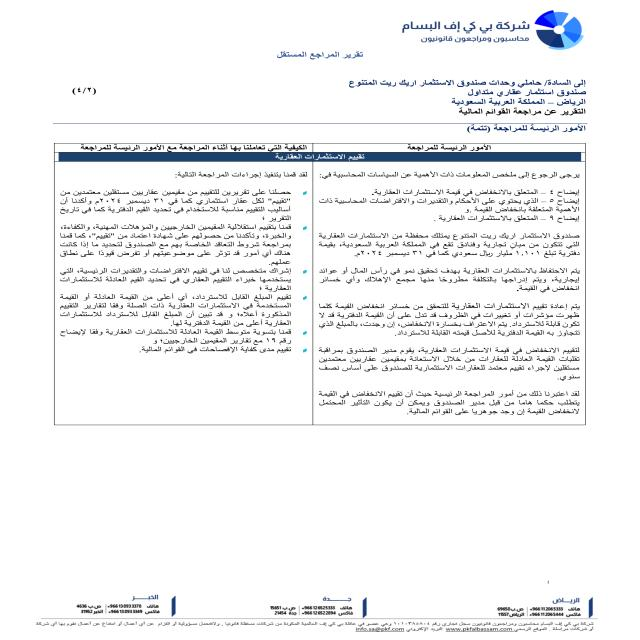auditor_report: (439, 120, 598, 138), (260, 47, 386, 65)
